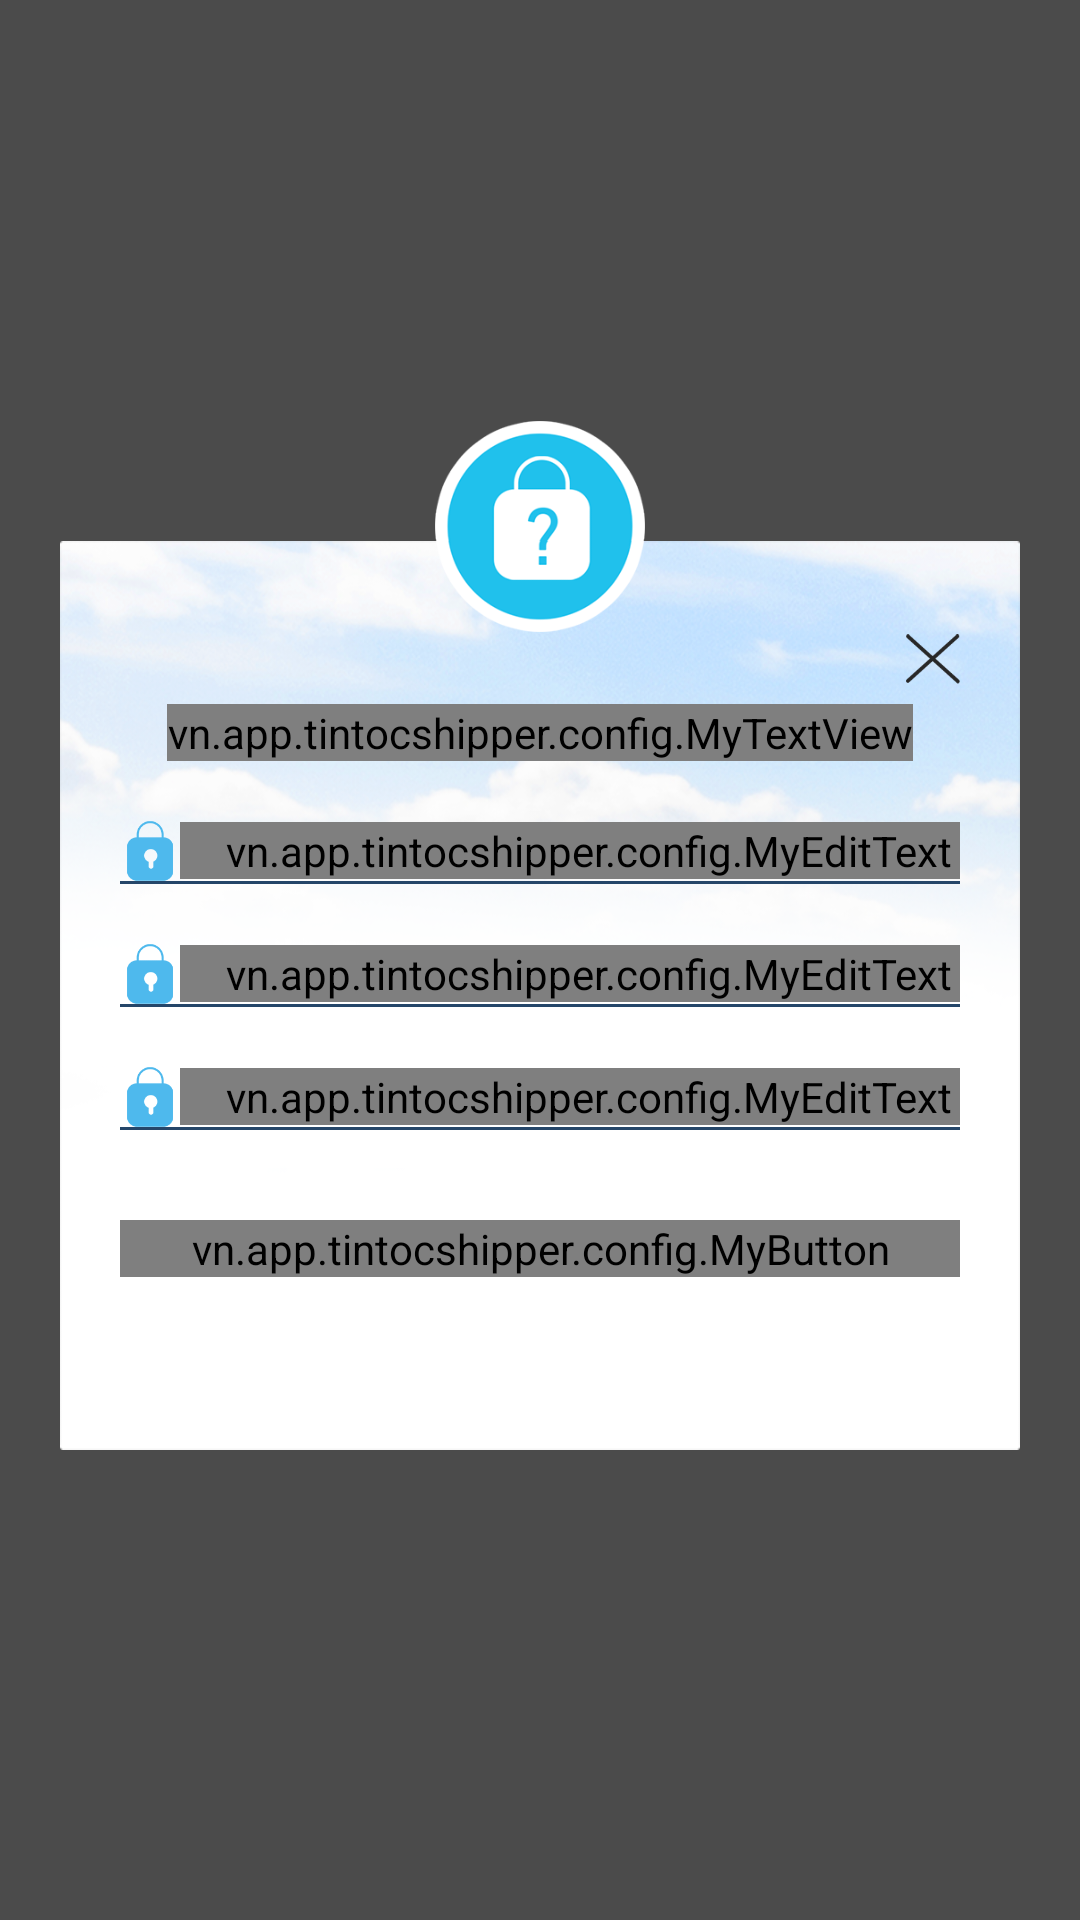

Point at icon controls on the screen. Image size 1080px×1920px, points as [x,y].
cancel: [933,659]
matkhau: [150,851], [150,974], [150,1097]
